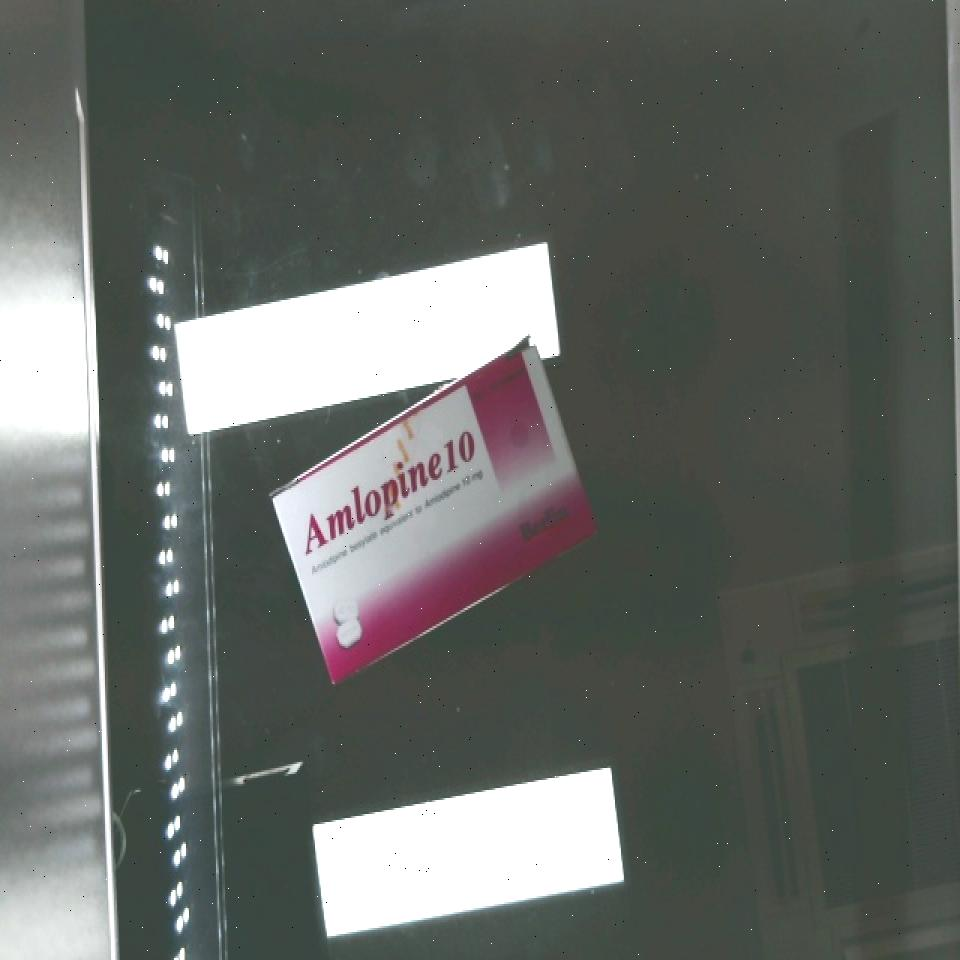medicine_box: (234, 336, 636, 686)
medicine_label_obb: (269, 403, 500, 578)
